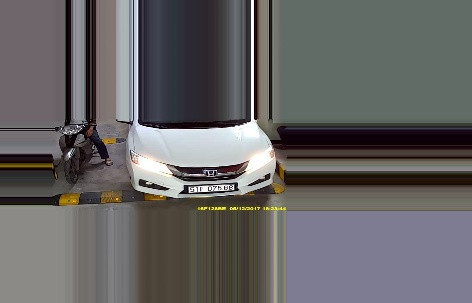plate: (184, 183, 237, 196)
